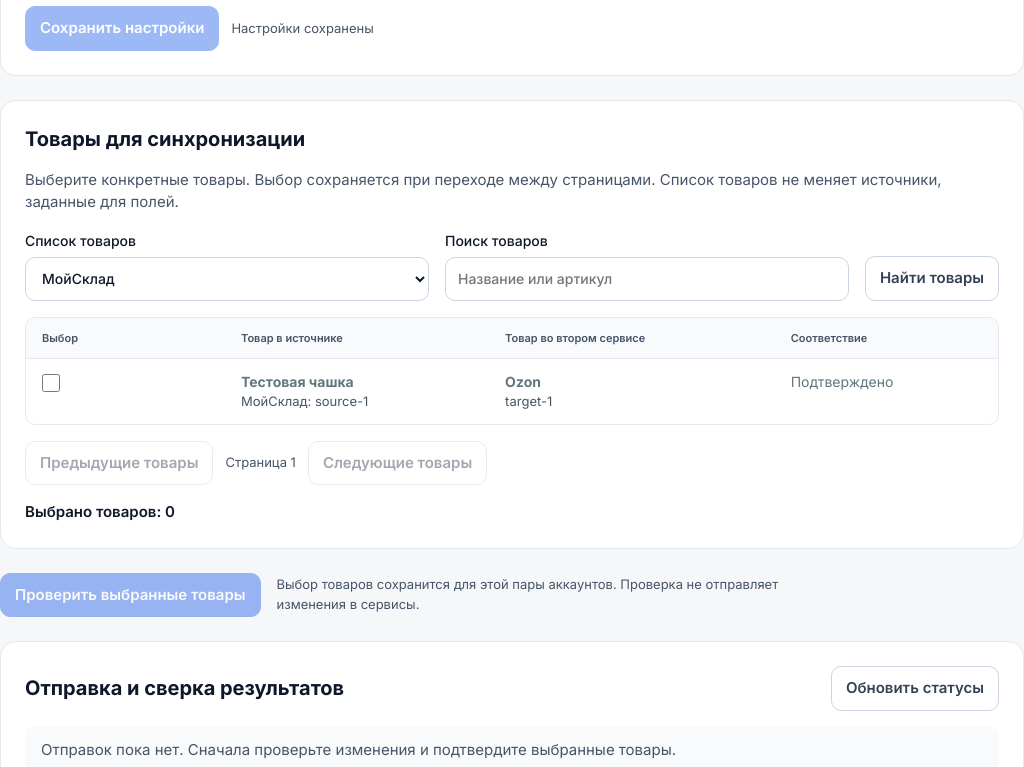
Test: discards stale approval previews when server evidence changed
(page scrolled)
Click the checkbox named "Выбрать товар Тестовая чашка": (51, 383) x1=42 y1=374 x2=60 y2=392
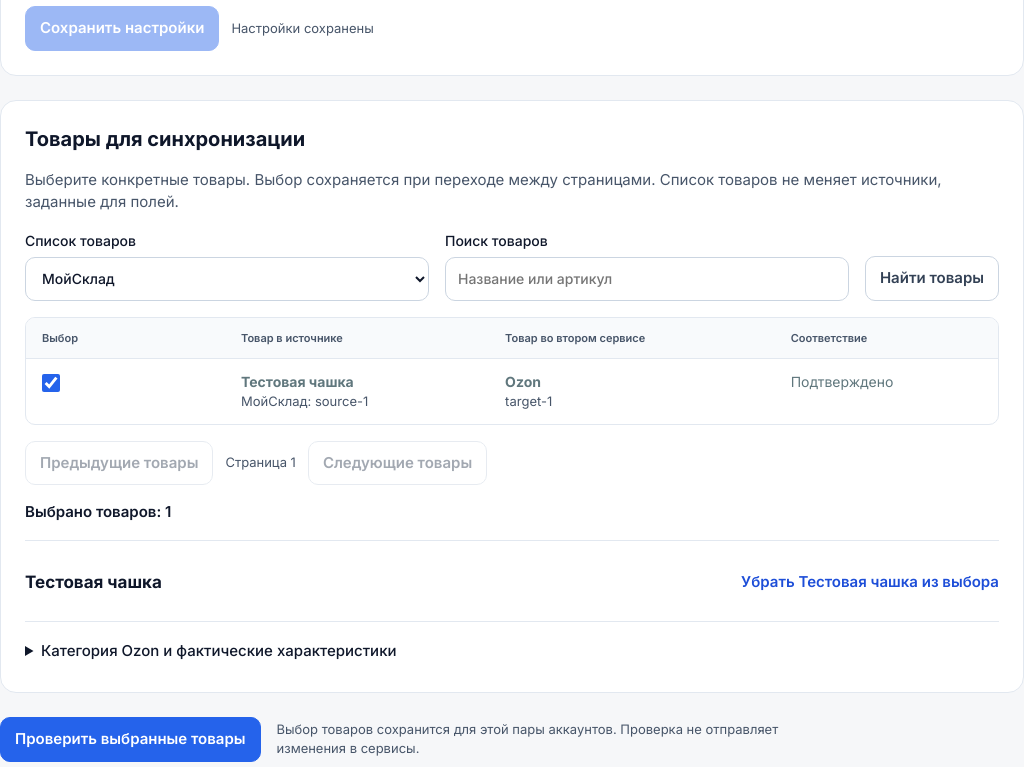
Click the button "Проверить выбранные товары": (130, 739) x1=0 y1=717 x2=260 y2=762
(page scrolled)
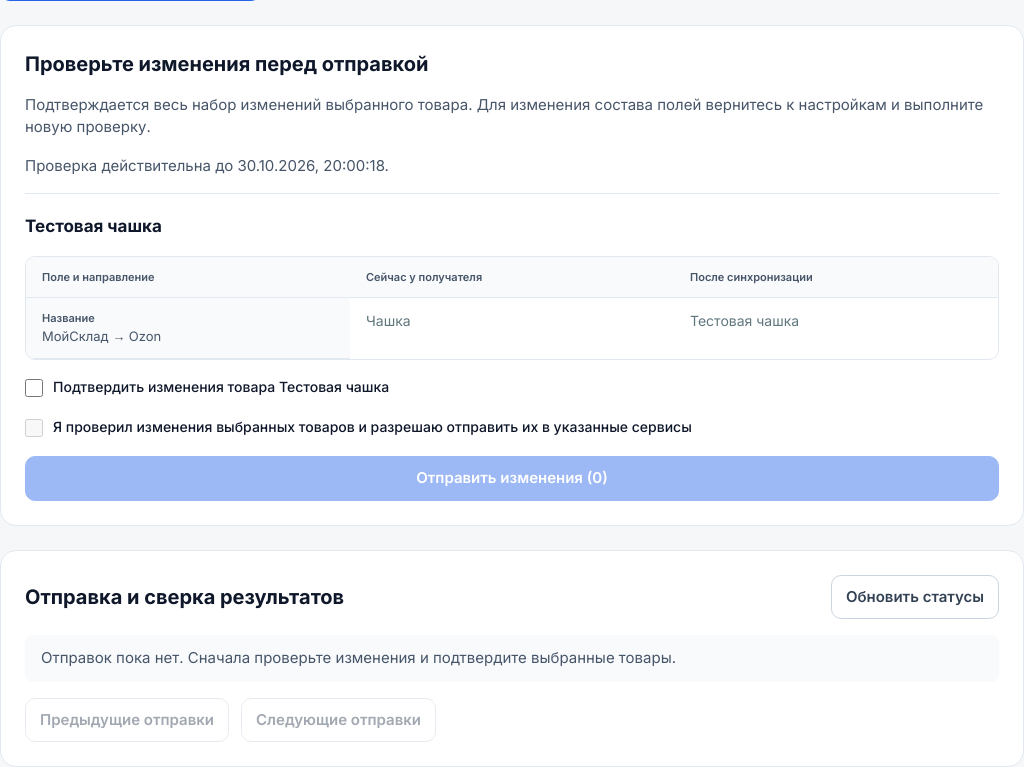
Click the checkbox labelled "Подтвердить изменения товара Тестовая чашка": (34, 388) x1=25 y1=379 x2=43 y2=397
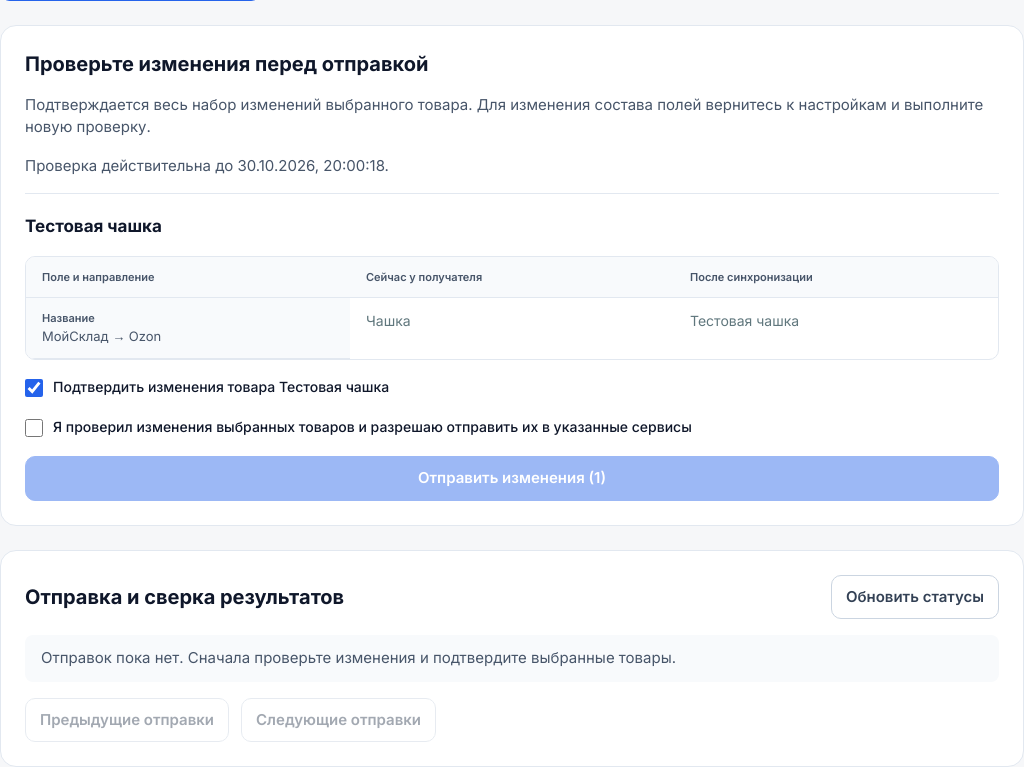
Click the checkbox labelled "Я проверил изменения выбранных товаров": (34, 428) x1=25 y1=419 x2=43 y2=437
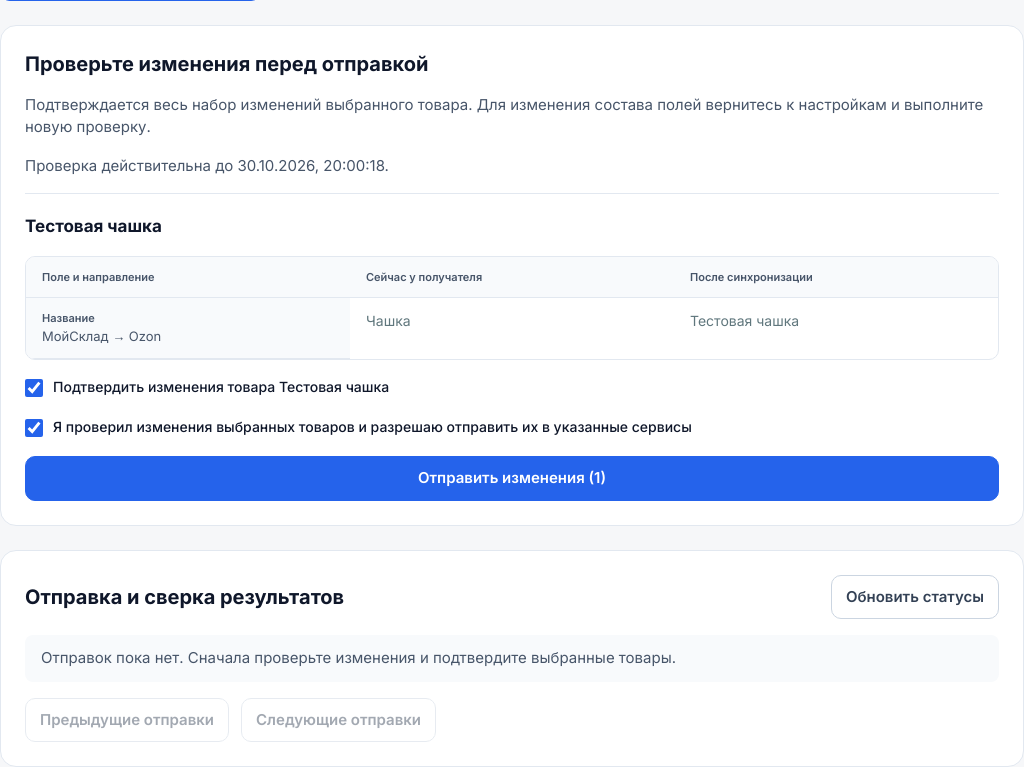
Click the button "Отправить изменения (1)": (512, 478) x1=25 y1=456 x2=999 y2=500
(page scrolled)
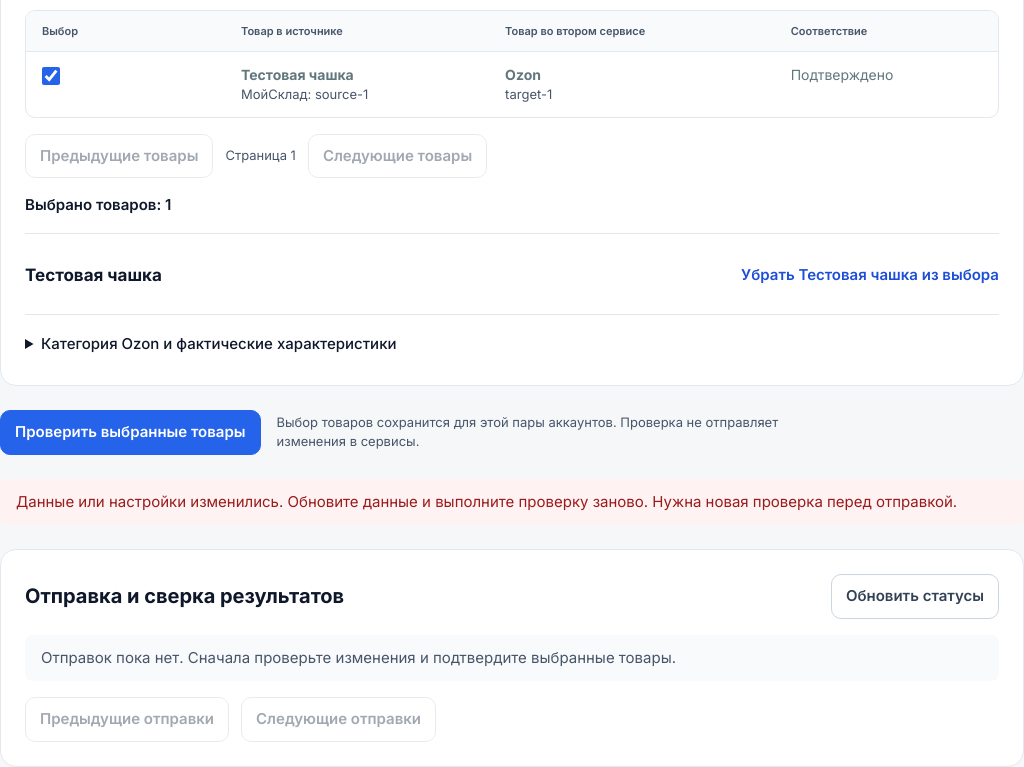
Expected: the text "Нужна новая проверка перед отправкой" is shown, x1=16 y1=492 x2=957 y2=510
Expected: the heading "Проверьте изменения перед отправкой" is gone
